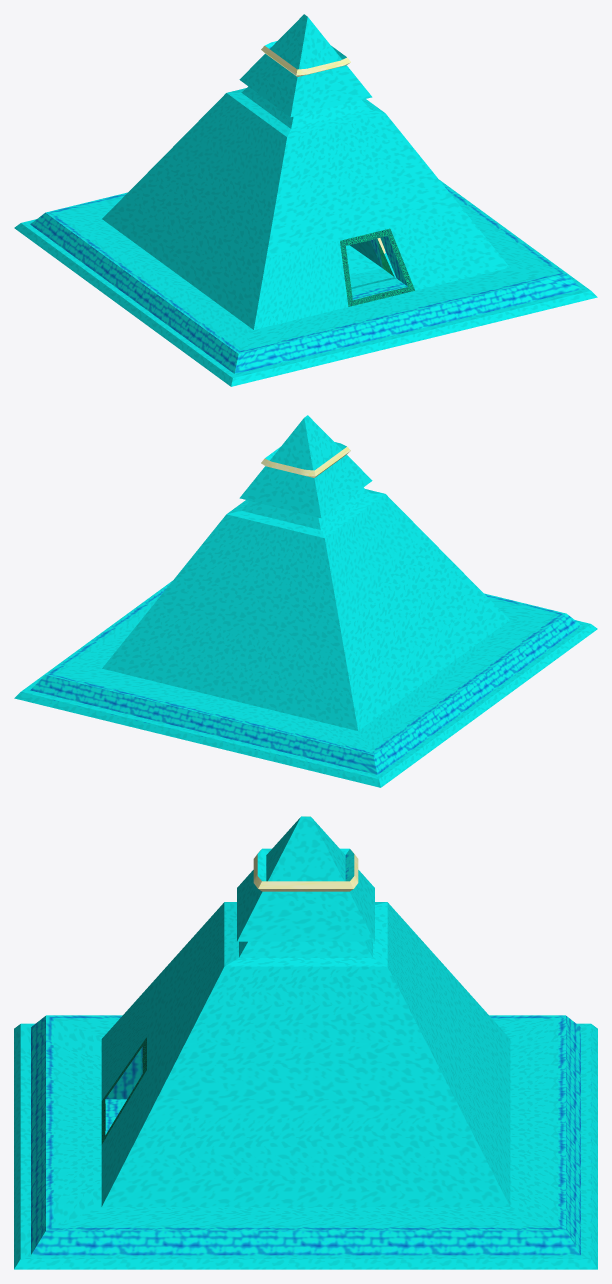
The model's file is SM_Piramide_01.fbx.
The picture shows the model from 3 angles, top to bottom: view 1: azimuth 30°, elevation 25°; view 2: azimuth 150°, elevation 25°; view 3: azimuth 270°, elevation 25°; orthographic projection. The views are drawn at different scales.
Parts seen in each view (by area): view 1: SM_Piramide_01; view 2: SM_Piramide_01; view 3: SM_Piramide_01.
Boxes of the visible parts, x1=… form: SM_Piramide_01: x1=14, y1=14, x2=597, y2=386; SM_Piramide_01: x1=14, y1=415, x2=597, y2=787; SM_Piramide_01: x1=14, y1=816, x2=597, y2=1269.
Size of the model in its own units: 128 by 82.33 by 131.
Materials: 1 (1 with a texture image).
